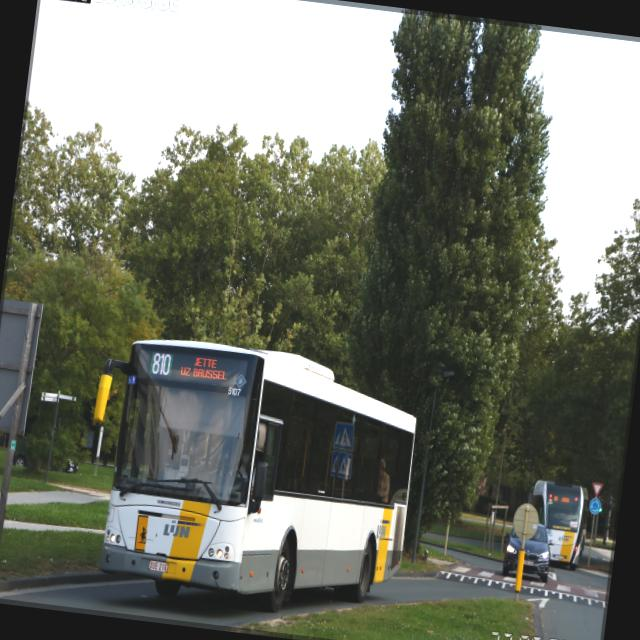bus-number: (149, 352, 173, 376)
